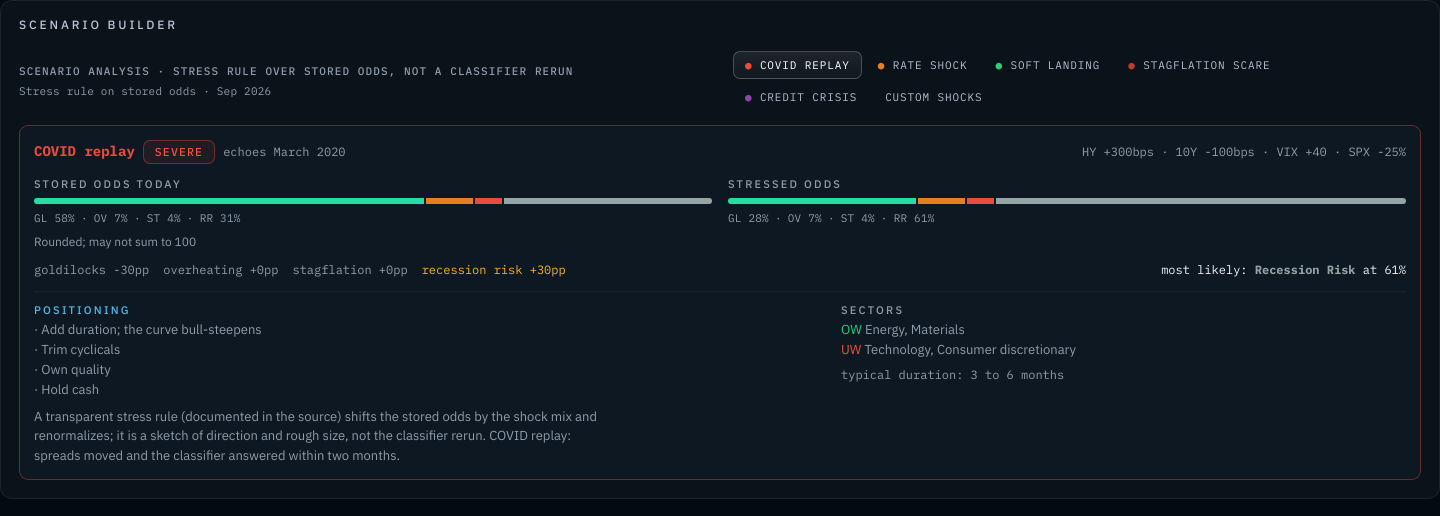
Test: ScenariosTab (checklist 04 B.8) › pressing another preset scores it and the tone follows its severity
Check: the text "stressed odds" is shown, box [728,177,842,191]
Click the button "● Soft landing" at (1048, 65), box [984,51,1112,79]
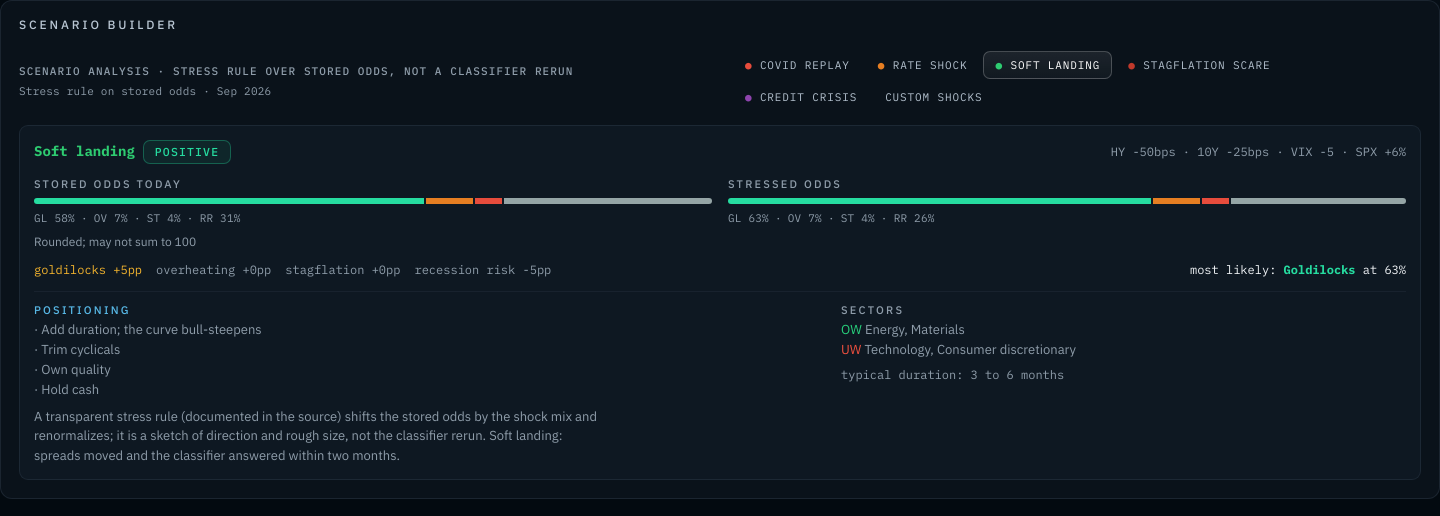
Check: the text "stressed odds" shows "Soft landing", box [34,142,135,160]
Check: the text "stressed odds" no longer shows "echoes"
